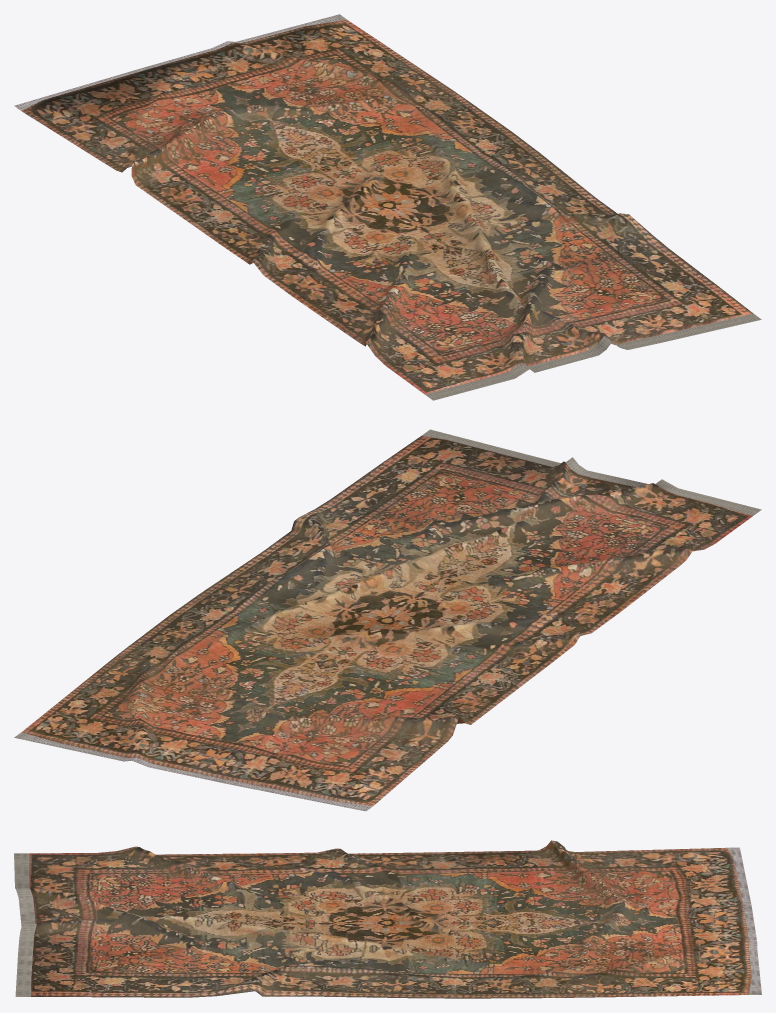
The model's file is persian_rug.glb.
3 views of the same model, one above another, from view 1: azimuth 30°, elevation 25°; view 2: azimuth 150°, elevation 25°; view 3: azimuth 270°, elevation 25° (orthographic). The views are drawn at different scales.
Visible parts, largest first — view 1: Old_Persian_carpet_Old Persian carpet_0; view 2: Old_Persian_carpet_Old Persian carpet_0; view 3: Old_Persian_carpet_Old Persian carpet_0.
Boxes of the visible parts, <box> form: Old_Persian_carpet_Old Persian carpet_0: <box>14,14,761,400</box>; Old_Persian_carpet_Old Persian carpet_0: <box>14,429,761,811</box>; Old_Persian_carpet_Old Persian carpet_0: <box>14,840,761,998</box>.
Size of the model in its own units: 3.11 by 0.153 by 6.51.
1 material, 1 textured.
